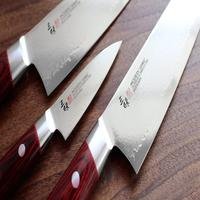knife: (69, 1, 199, 192), (7, 39, 122, 193), (3, 1, 114, 104)
